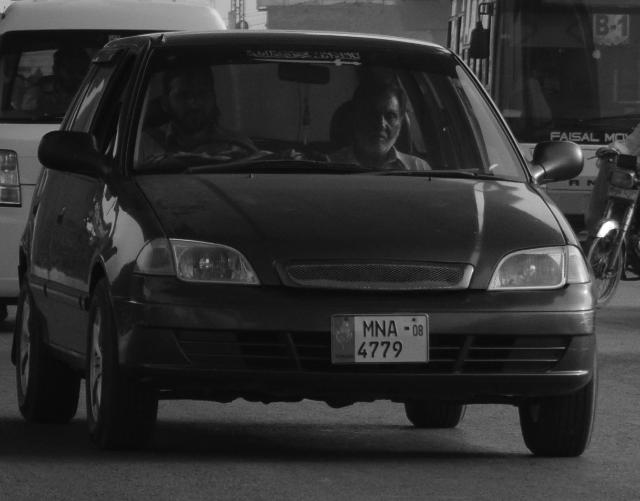Number: (357, 320, 408, 360)
